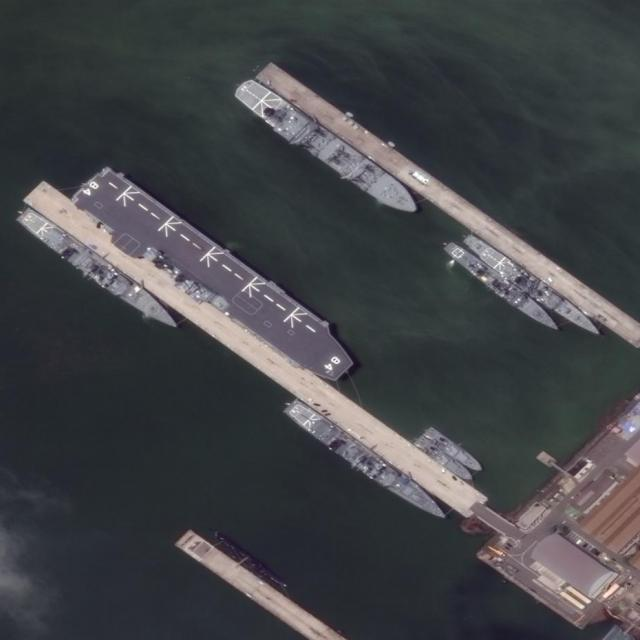Auxiliary Ships: (230, 74, 425, 222)
Destroyer: (73, 162, 362, 385), (280, 394, 452, 528), (13, 204, 184, 336), (461, 231, 606, 340), (440, 238, 568, 336)
Dock: (26, 172, 508, 544)
Other Warship: (423, 425, 489, 479), (415, 436, 480, 488)
Submarine: (209, 527, 291, 595)
